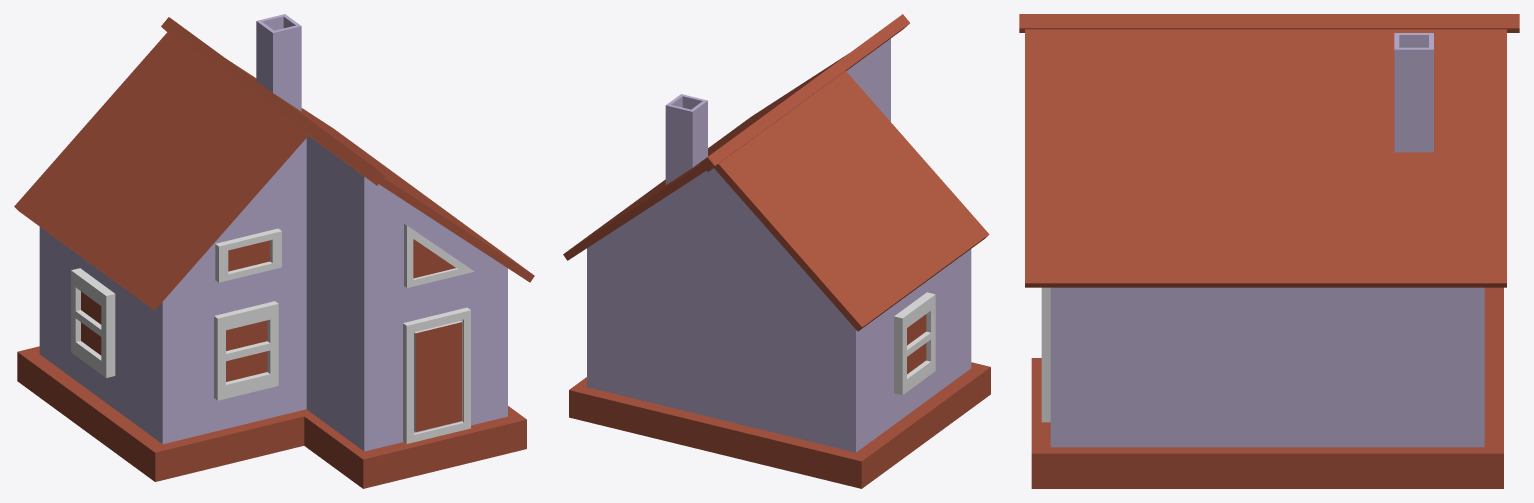
The model's file is HouseSeven.fbx.
The picture shows the model from 3 angles, left to right: view 1: azimuth 30°, elevation 25°; view 2: azimuth 150°, elevation 25°; view 3: azimuth 270°, elevation 25°; orthographic projection. The views are drawn at different scales.
Parts seen in each view (by area): view 1: Cube.014; view 2: Cube.014; view 3: Cube.014.
Part boxes in pixels (bbox=[...]): Cube.014: bbox=[14, 14, 534, 488]; Cube.014: bbox=[563, 14, 990, 488]; Cube.014: bbox=[1019, 14, 1519, 488].
Size of the model in its own units: 81.77 by 80.72 by 92.51.
